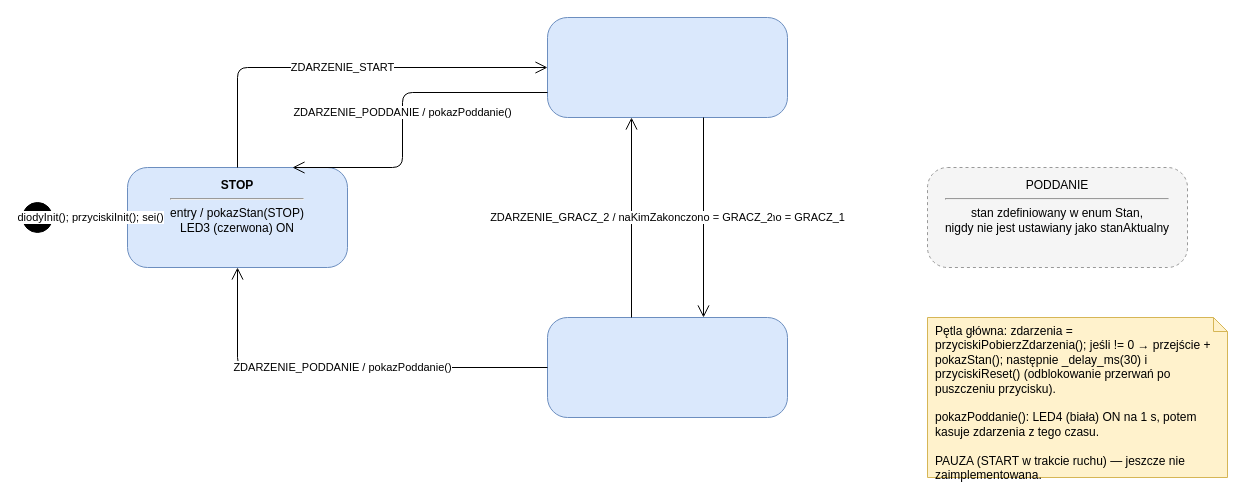
Image size: 1245x500. Some labels were removed from this diagram. Here are the shapes that lost their labels. From the top down, the centre of each, then its label:
the point at 667,67: RUCH_GR_1 entry / pokazStan(RUCH_GR_1) LED1 (żółta) ON
the point at 667,367: RUCH_GR_2 entry / pokazStan(RUCH_GR_2) LED2 (pomarańczowa) ON
